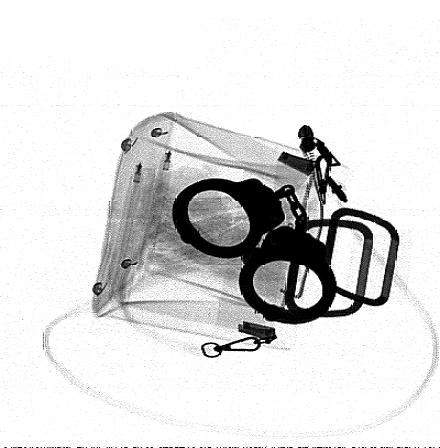HandCuffs: (173, 176, 338, 324)
